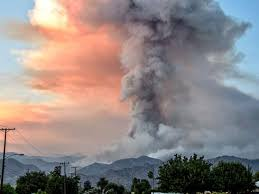smoke: (100, 1, 259, 157)
